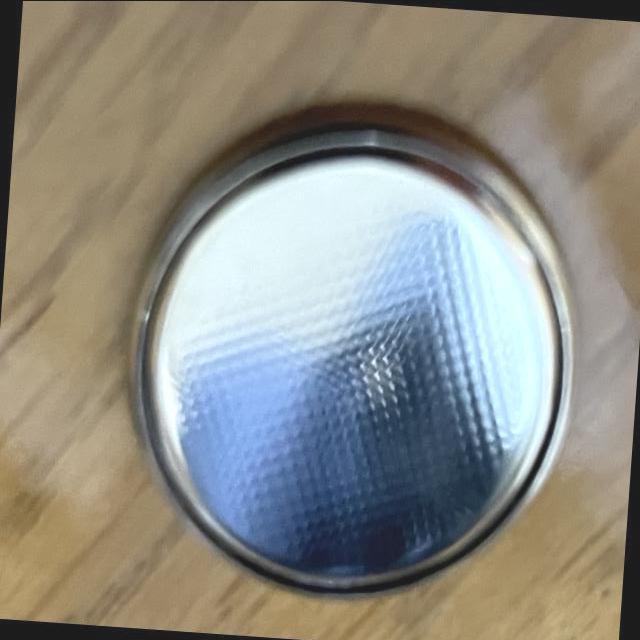COIN: (106, 84, 598, 617)
